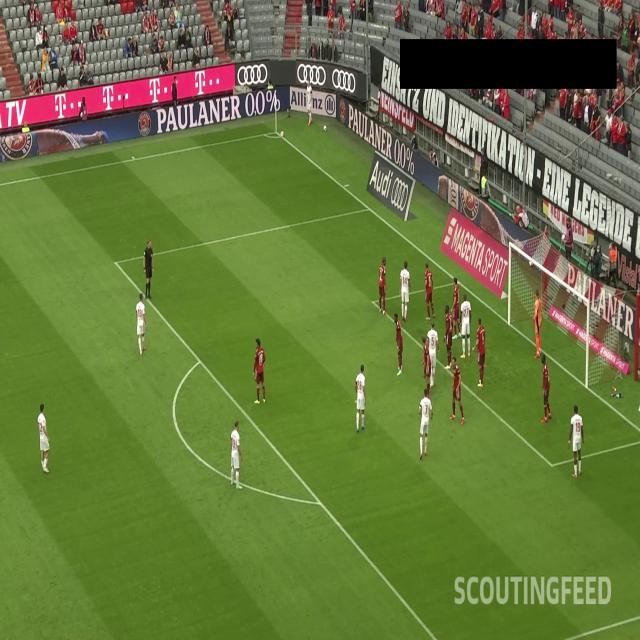ball: (279, 126, 286, 141)
player: (566, 404, 586, 478), (449, 350, 466, 425), (228, 416, 244, 494), (470, 316, 487, 388), (133, 292, 151, 359), (417, 382, 432, 461), (36, 401, 52, 474), (419, 331, 434, 406), (251, 336, 267, 406), (439, 303, 455, 371), (391, 305, 406, 376), (353, 359, 367, 434), (457, 292, 472, 361), (539, 354, 553, 426), (426, 318, 439, 390), (421, 256, 436, 318), (451, 274, 464, 340), (375, 253, 388, 317), (532, 287, 543, 360), (399, 260, 411, 322), (303, 76, 314, 126)
referee: (142, 237, 156, 302)
